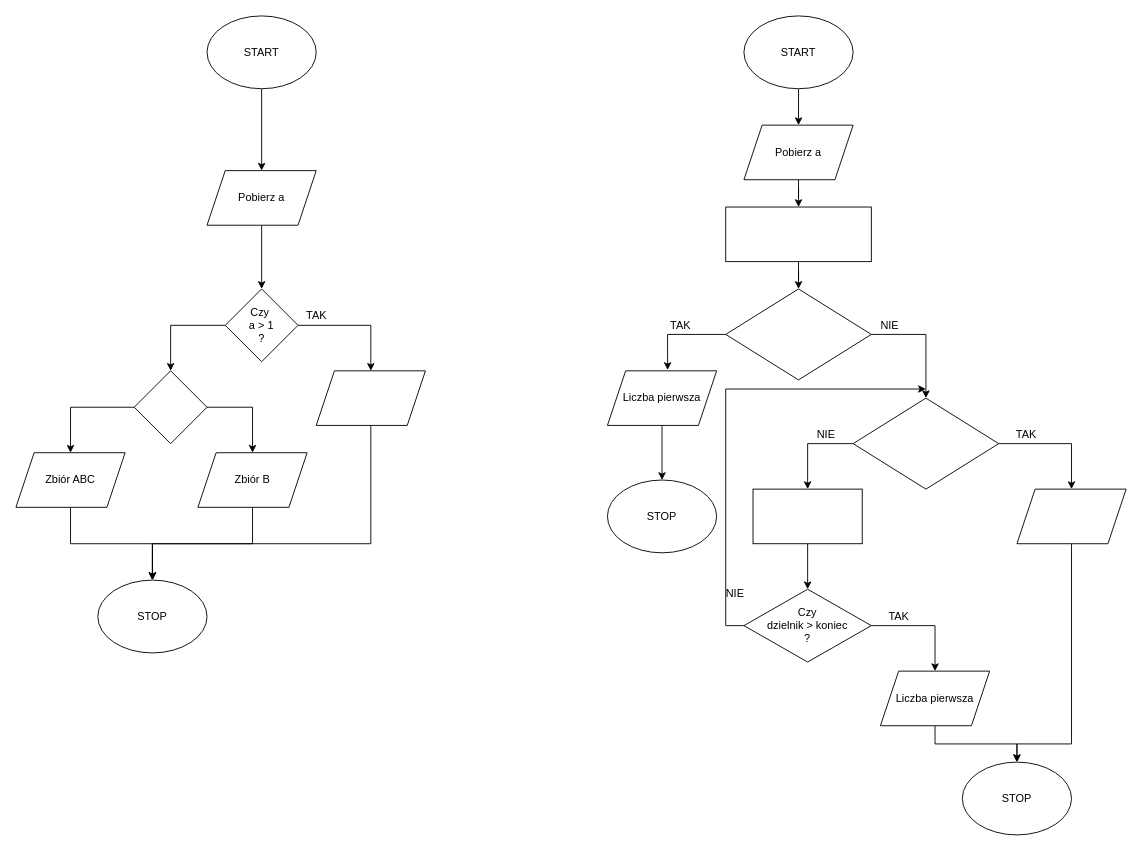
Image size: 1142x851. Some labels were removed from this diagram. The centre of each missing label's shape, as x and y in pixels:
"Czy a < 0 ?" goes at pixel 170 407.
"Czy a == 2 ?" goes at pixel 798 334.
"Czy a mod dzielnik == 0 ?" goes at pixel 925 443.
"dzielnik += 1" goes at pixel 807 516.
"dzielnik = 2 koniec = pierwiastek z a" goes at pixel 798 234.
"Nie jest to liczba pierwsza" goes at pixel 1071 516.
"Zbiór A" goes at pixel 370 397.
